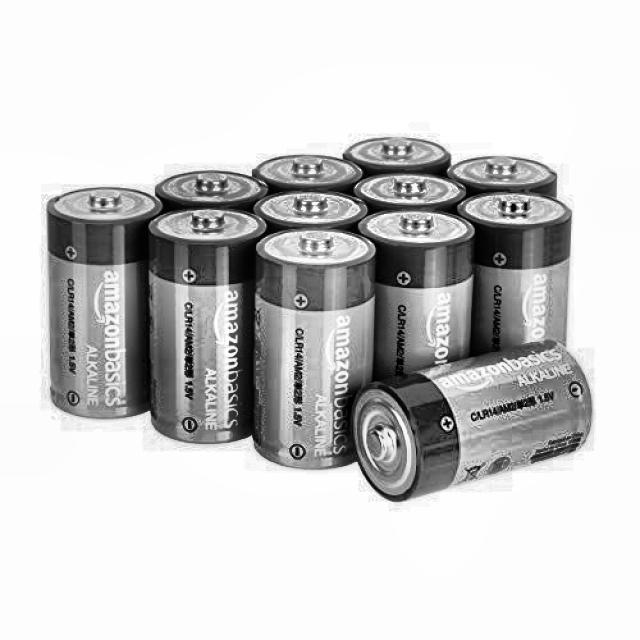drycell: (340, 343, 606, 478), (252, 233, 384, 470), (140, 210, 266, 453), (354, 212, 478, 457), (41, 175, 161, 422), (458, 190, 592, 410)
